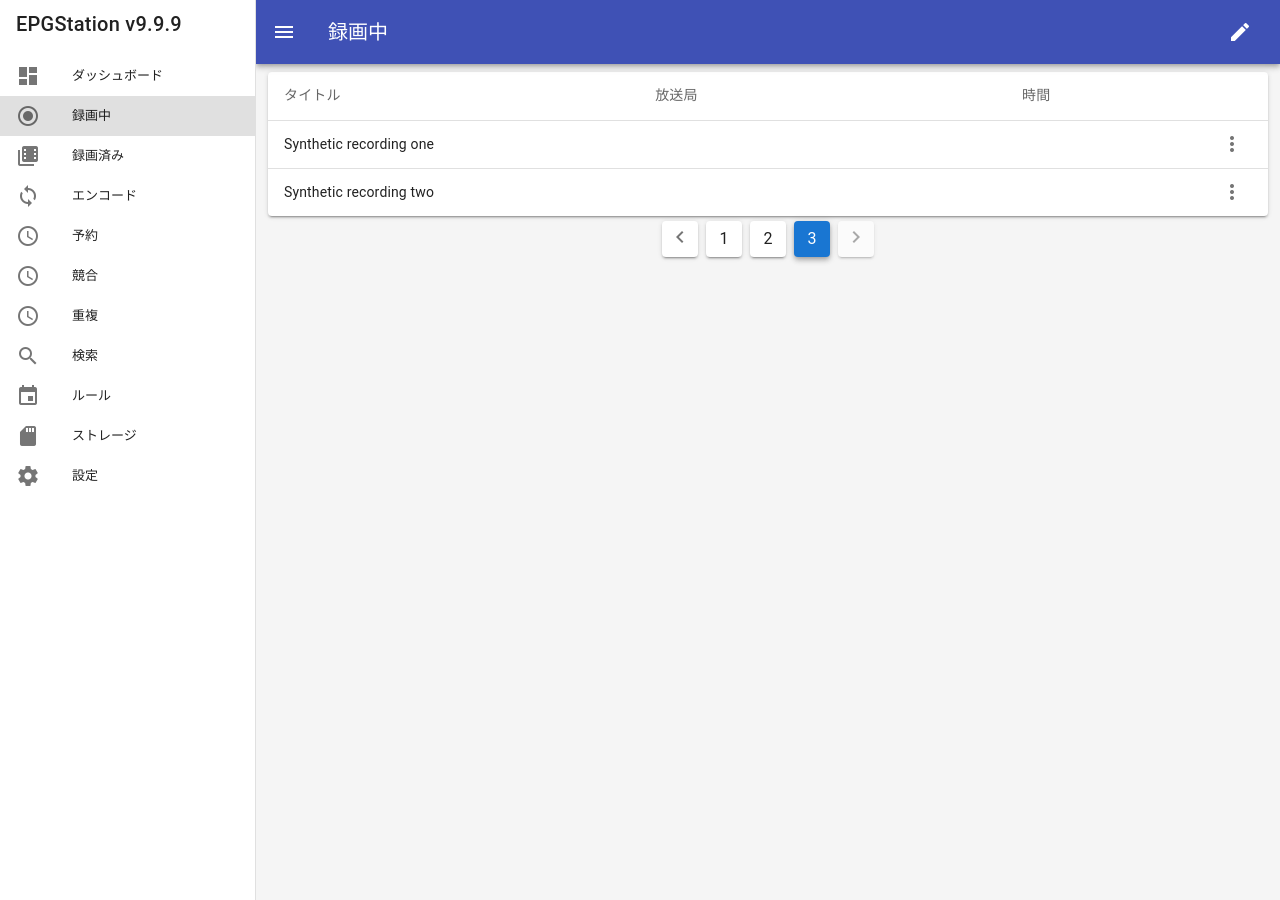
Test: Recording list route lifecycle › [AC 1.9] [AC 1.10] continues bulk video file deletion after a failed DELETE and reports partial failure
Expected: the element with test id "recording-page" is shown, [256,64,1279,273]
Click the button named "録画中を編集".
click(1240, 32)  # box [1216,8,1264,56]
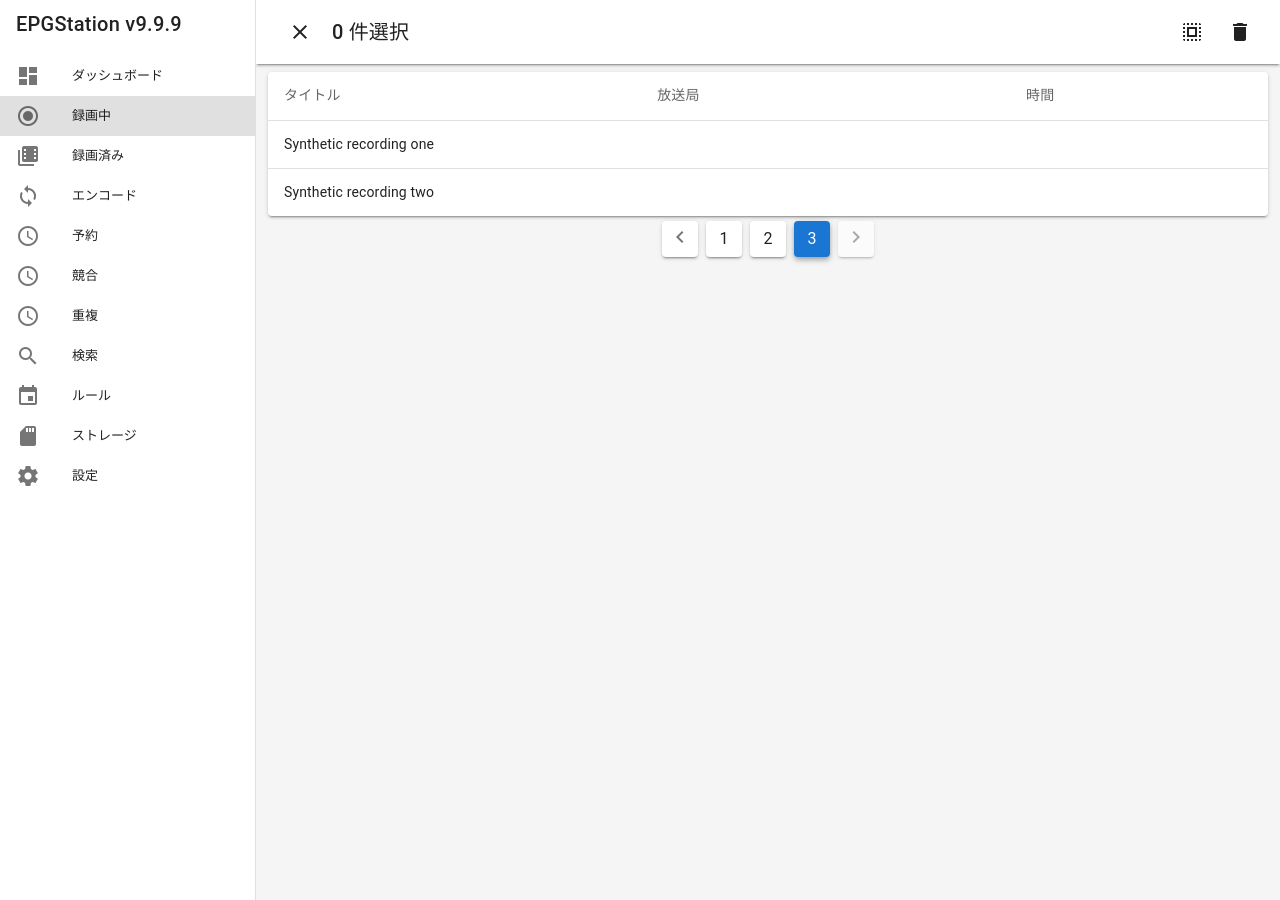
Click the text "Synthetic recording one".
click(455, 144)  # box [268,120,641,168]
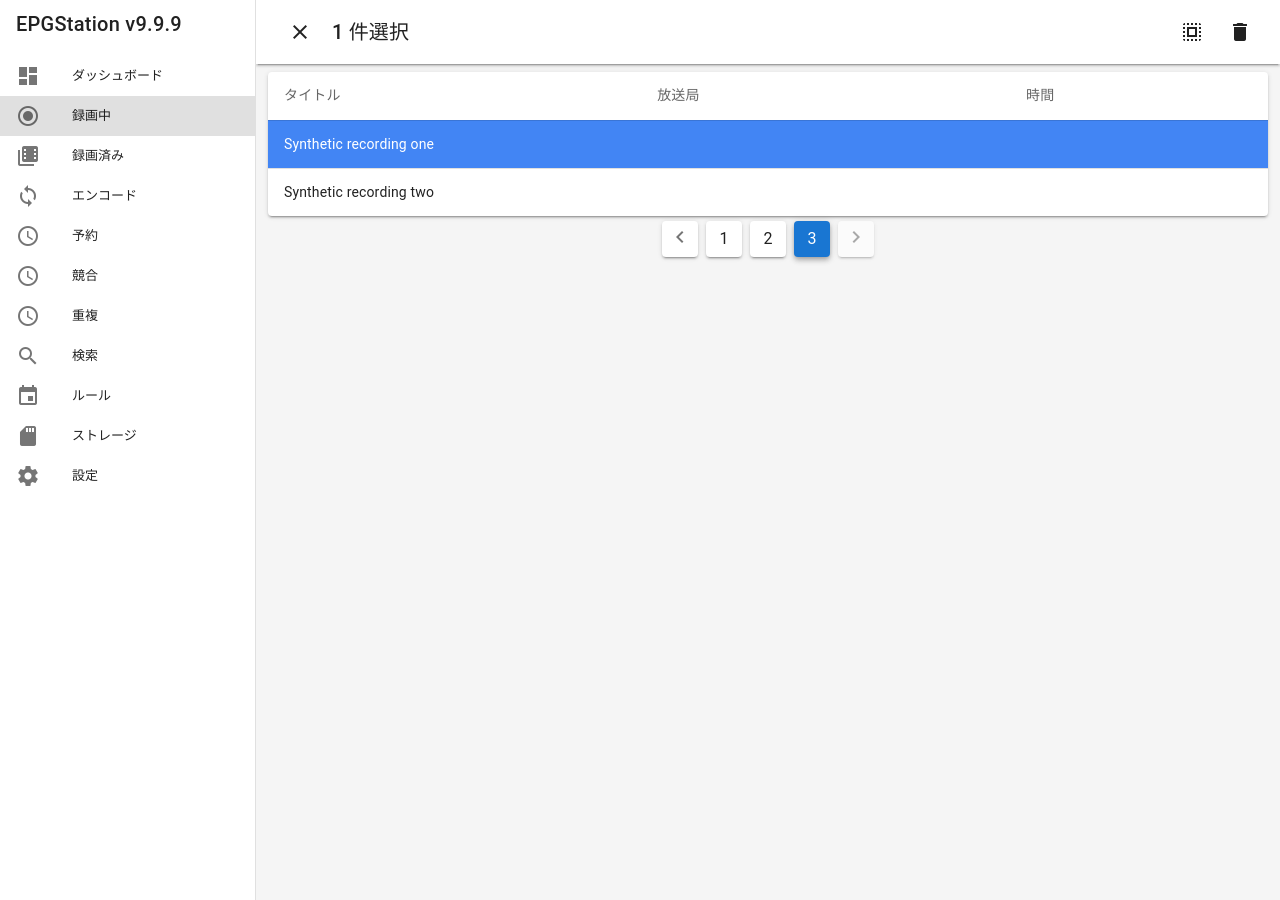
Click the button named "選択項目を削除".
click(1240, 32)  # box [1216,8,1264,56]
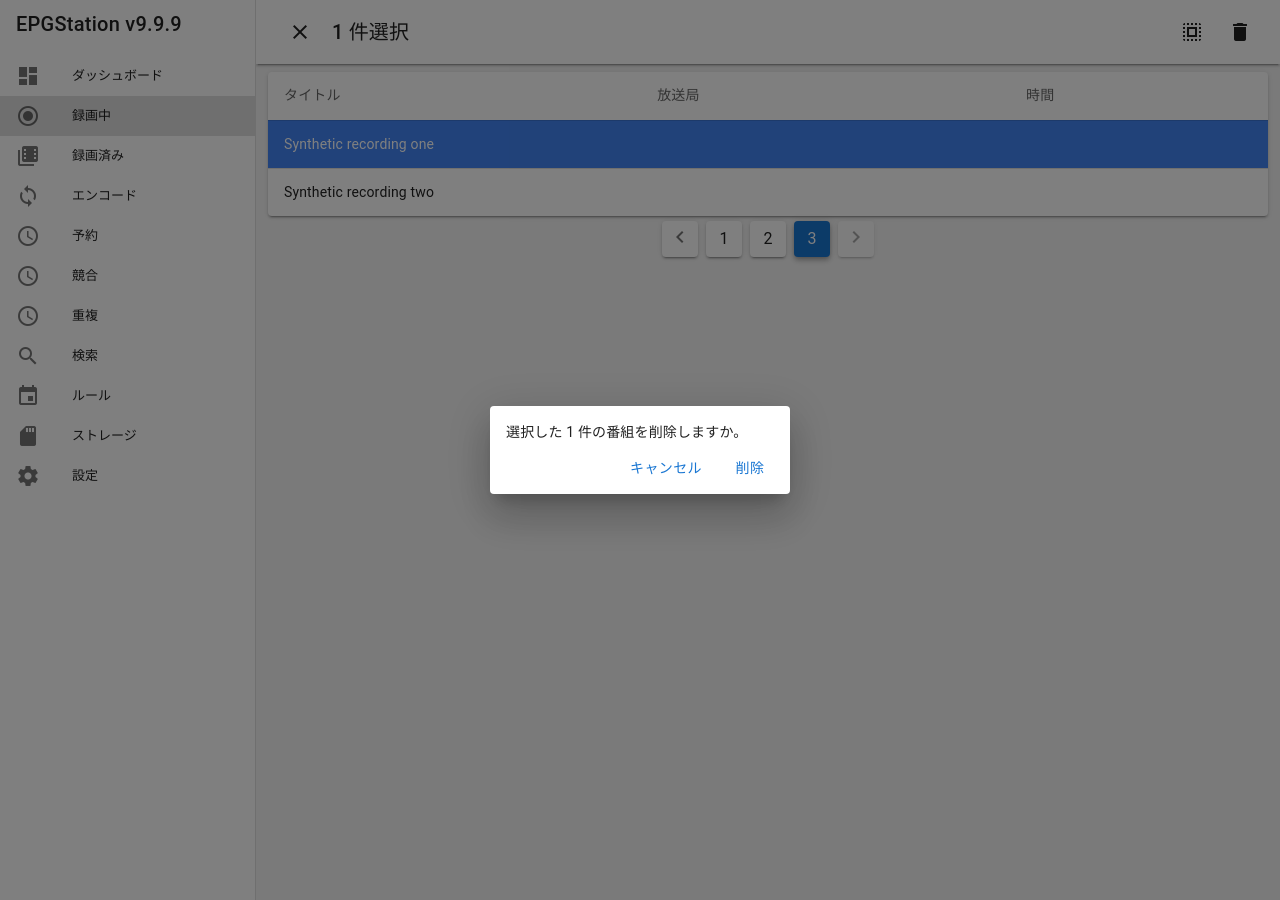
Click the button "削除".
click(750, 468)  # box [718,450,782,486]
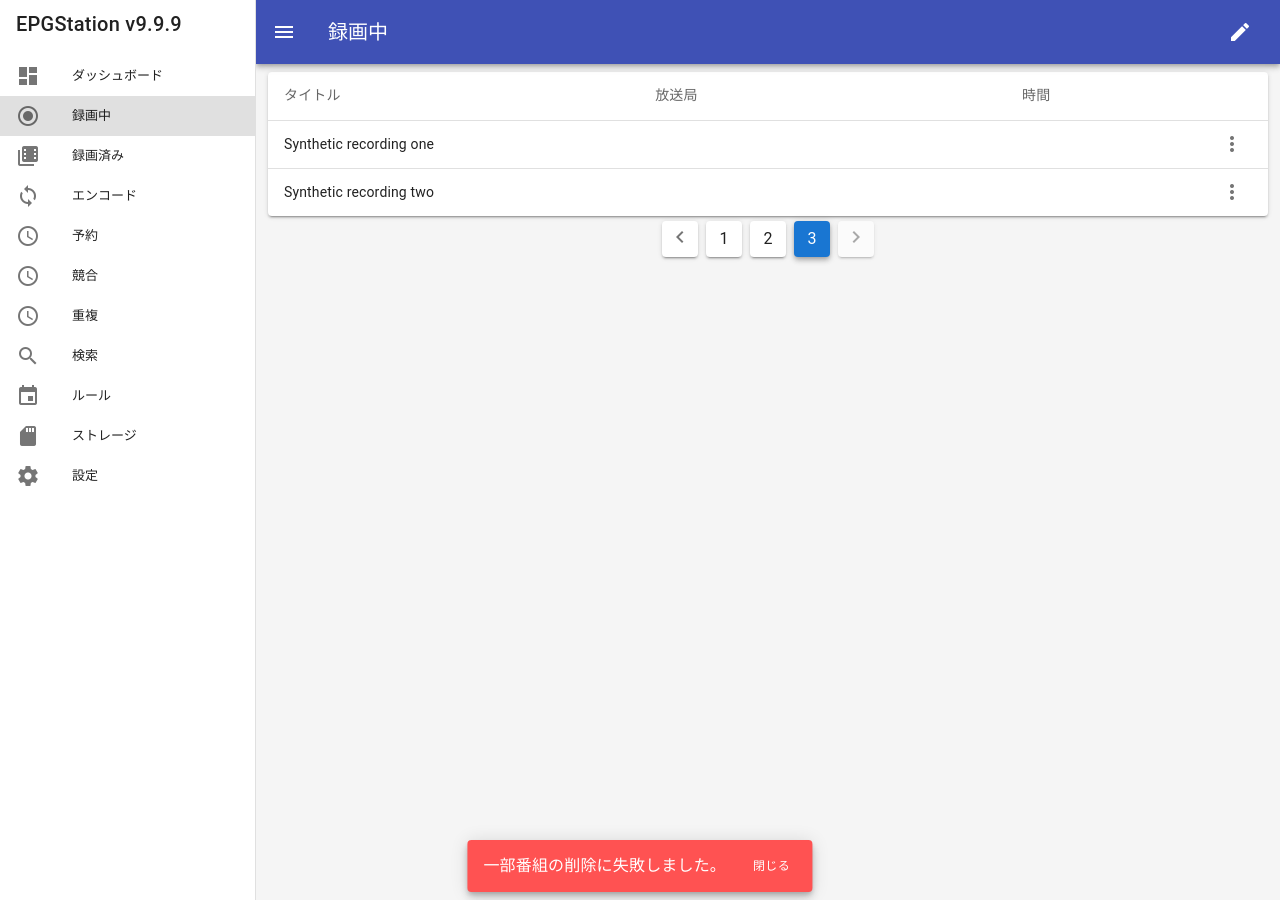
Now the text "一部番組の削除に失敗しました。" is shown, box [483,856,726,875]
